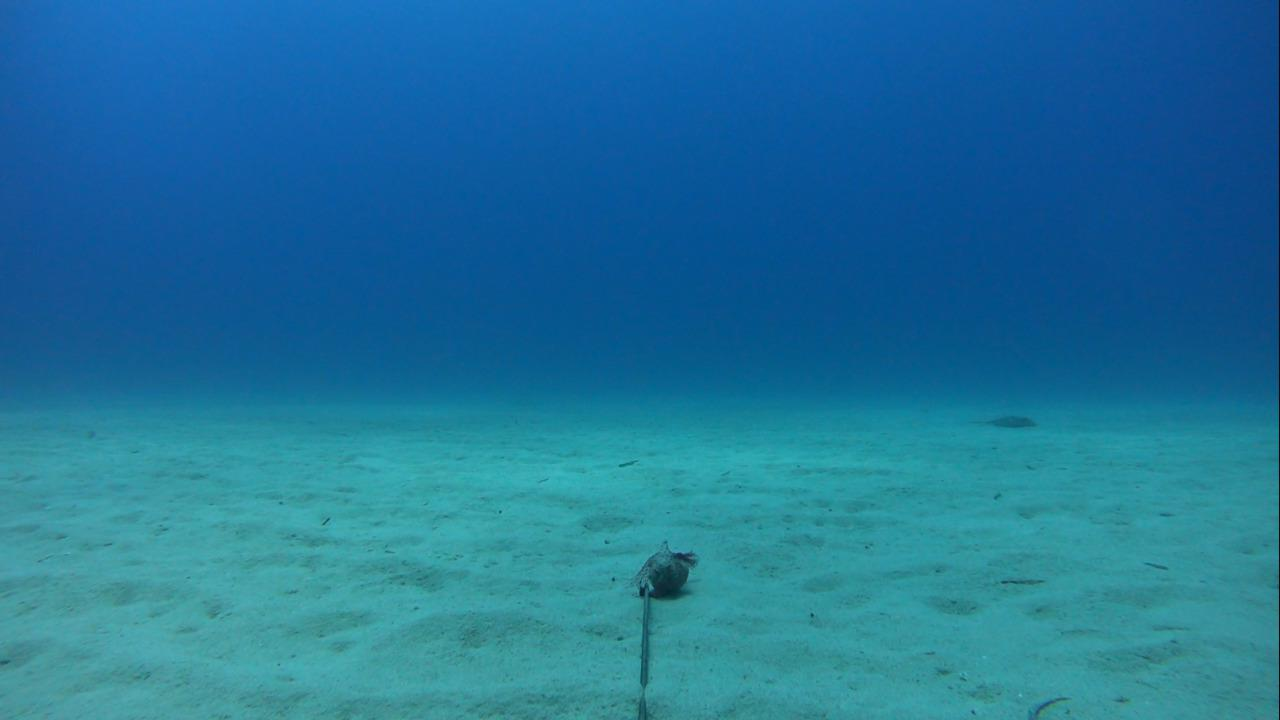myliobatis: (935, 406, 1043, 434)
